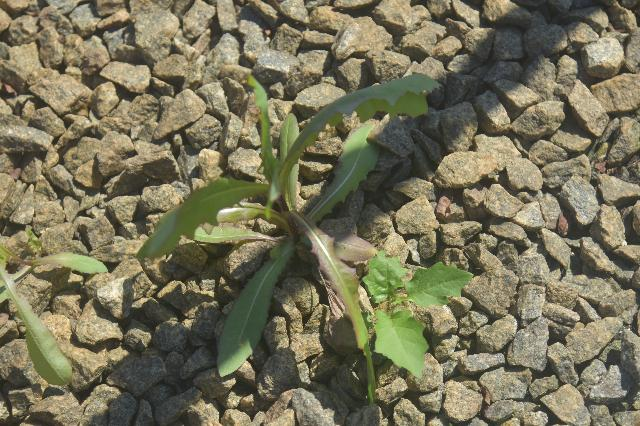MalezaMontesDelPlata: (133, 59, 479, 415), (0, 222, 110, 392)
